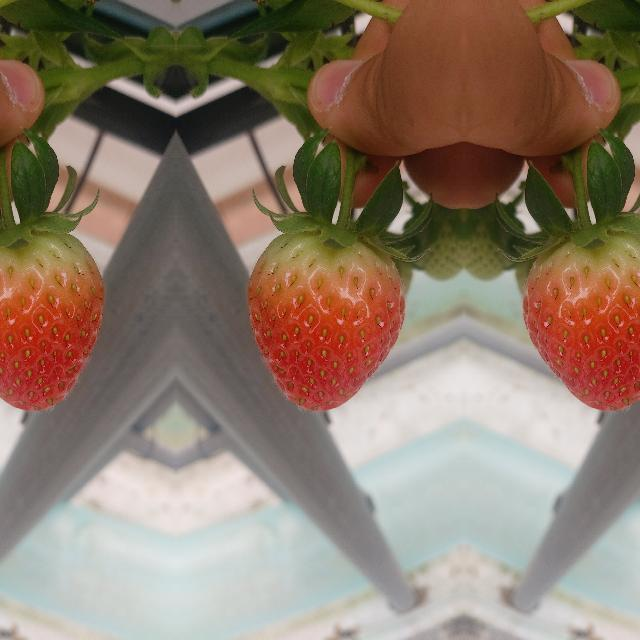Health_100: (246, 230, 404, 410), (522, 229, 640, 410), (0, 229, 104, 410)
